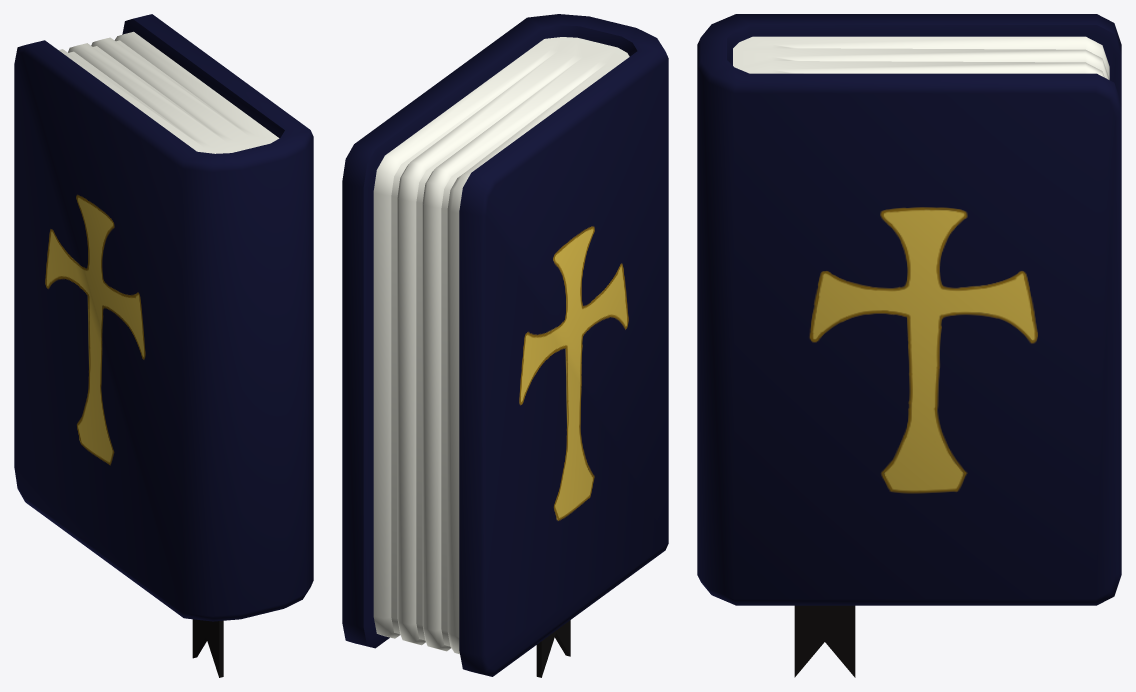
File: BookS.fbx
3 renders of one model, left to right at view 1: azimuth 30°, elevation 25°; view 2: azimuth 150°, elevation 25°; view 3: azimuth 270°, elevation 25°, orthographic. The views are drawn at different scales.
Visible parts, largest first — view 1: Book S; view 2: Book S; view 3: Book S.
Part boxes in pixels (x1=…): Book S: x1=14, y1=14, x2=313, y2=677; Book S: x1=342, y1=14, x2=668, y2=677; Book S: x1=697, y1=14, x2=1121, y2=677.
Bounding box in the file's own units: 0.2134 × 0.8547 × 0.524.
